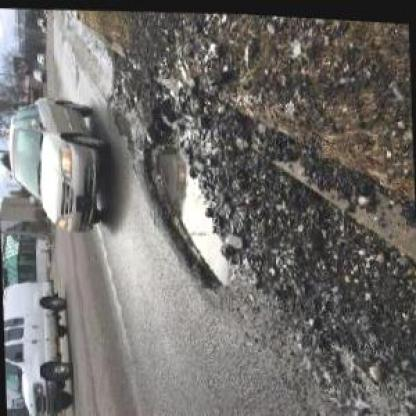pothole: (138, 122, 235, 290), (107, 100, 136, 150)
